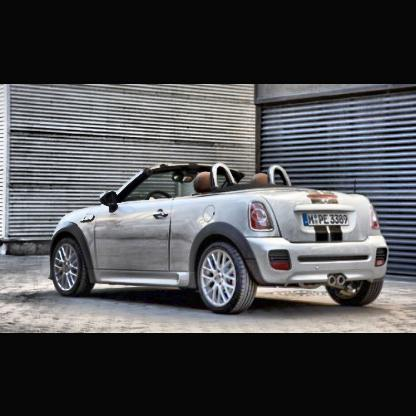MINI Cooper Roadster Convertible 2012: (49, 162, 389, 315)
